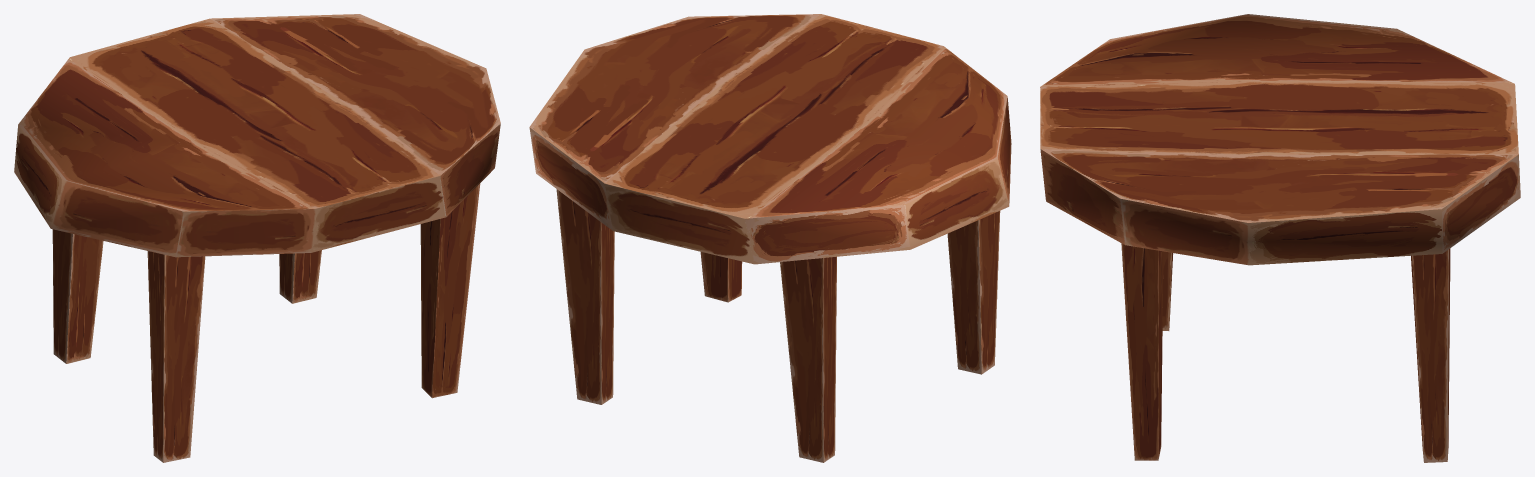
Rendered from SM_PROP_table_03.fbx.
3 renders of one model, left to right at view 1: azimuth 30°, elevation 25°; view 2: azimuth 150°, elevation 25°; view 3: azimuth 270°, elevation 25°, orthographic. The views are drawn at different scales.
Parts seen in each view (by area): view 1: SM_PROP_table_03; view 2: SM_PROP_table_03; view 3: SM_PROP_table_03.
Boxes of the visible parts, x1,y1,x2,y2 form: SM_PROP_table_03: (14,14,500,462); SM_PROP_table_03: (529,14,1011,462); SM_PROP_table_03: (1040,14,1520,462).
Bounding box in the file's own units: 124 × 74.86 × 112.
